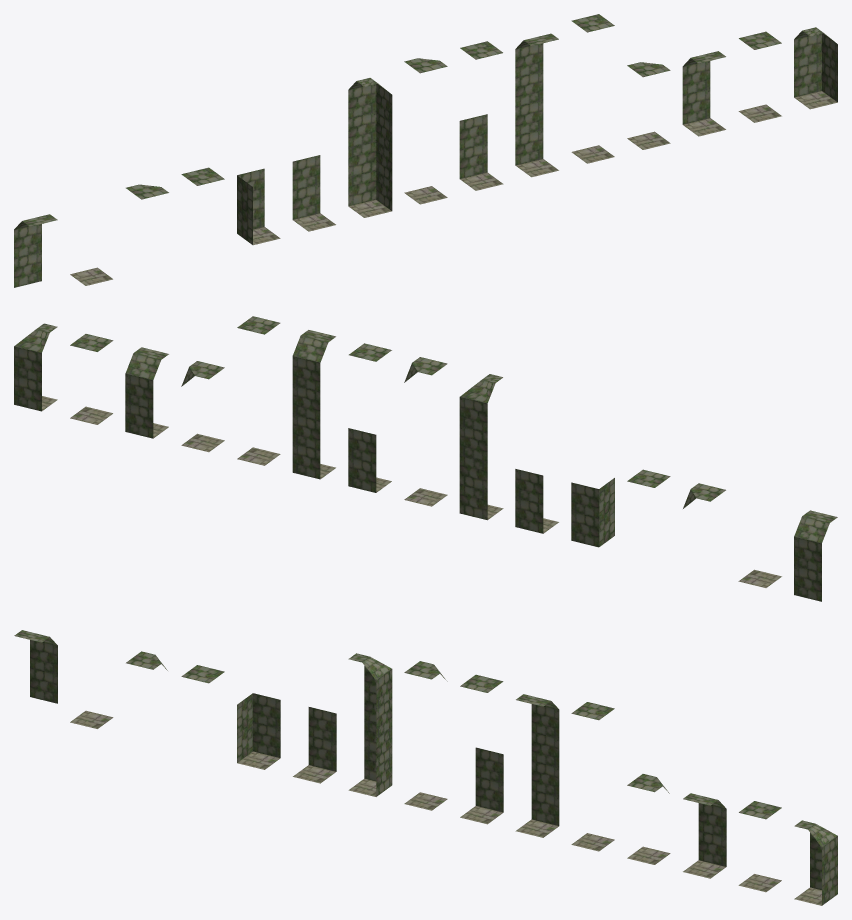
Rendered from tileset.glb.
The picture shows the model from 3 angles, top to bottom: view 1: azimuth 30°, elevation 25°; view 2: azimuth 150°, elevation 25°; view 3: azimuth 330°, elevation 25°; orthographic projection.
Parts seen in each view (by area): view 1: corner-in-col.001, wall-high-col, corner-in-col, floor-wall-high-col, wall-col, pit-floor-wall-col, pit-floor-wall-corner-col, wall-roof-col, floor-high-col, floor-col, corner-out-col, corner-high-out-col; view 2: wall-high-col, corner-in-col.001, wall-col, pit-floor-wall-corner-col, wall-roof-col, corner-in-col, floor-wall-high-col, pit-floor-wall-col, corner-high-out-col, corner-out-col, floor-high-col, floor-col; view 3: wall-high-col, corner-in-col.001, pit-floor-wall-corner-col, floor-wall-high-col, wall-col, corner-in-col, pit-floor-wall-col, wall-roof-col, floor-high-col, floor-col, corner-high-out-col, corner-out-col.
Part boxes in pixels (<box>): corner-in-col.001: <box>348,78,392,217</box>; wall-high-col: <box>515,33,558,177</box>; corner-in-col: <box>794,27,837,109</box>; floor-wall-high-col: <box>459,41,503,190</box>; wall-col: <box>682,51,725,136</box>; pit-floor-wall-col: <box>292,155,335,231</box>; pit-floor-wall-corner-col: <box>237,168,280,245</box>; wall-roof-col: <box>14,214,57,287</box>; floor-high-col: <box>571,14,614,163</box>; floor-col: <box>738,31,781,122</box>; corner-out-col: <box>627,62,670,149</box>; corner-high-out-col: <box>404,58,447,204</box>; wall-high-col: <box>292,330,335,479</box>; corner-in-col.001: <box>459,374,503,520</box>; wall-col: <box>125,347,168,438</box>; pit-floor-wall-corner-col: <box>571,478,614,547</box>; wall-roof-col: <box>794,510,837,601</box>; corner-in-col: <box>14,323,57,411</box>; floor-wall-high-col: <box>348,343,391,492</box>; pit-floor-wall-col: <box>515,469,558,533</box>; corner-high-out-col: <box>404,357,447,506</box>; corner-out-col: <box>181,361,224,452</box>; floor-high-col: <box>237,316,280,465</box>; floor-col: <box>70,334,113,424</box>; wall-high-col: <box>515,694,559,837</box>; corner-in-col.001: <box>348,653,392,796</box>; pit-floor-wall-corner-col: <box>237,693,280,769</box>; floor-wall-high-col: <box>460,674,503,824</box>; wall-col: <box>683,793,726,878</box>; corner-in-col: <box>794,820,837,905</box>; pit-floor-wall-col: <box>293,707,336,783</box>; wall-roof-col: <box>14,630,57,703</box>; floor-high-col: <box>571,702,614,851</box>; floor-col: <box>738,801,781,892</box>; corner-high-out-col: <box>404,661,447,810</box>; corner-out-col: <box>627,774,670,864</box>.
Bounding box in the file's own units: 29 × 4.5 × 1.
2 materials, 2 textured.
